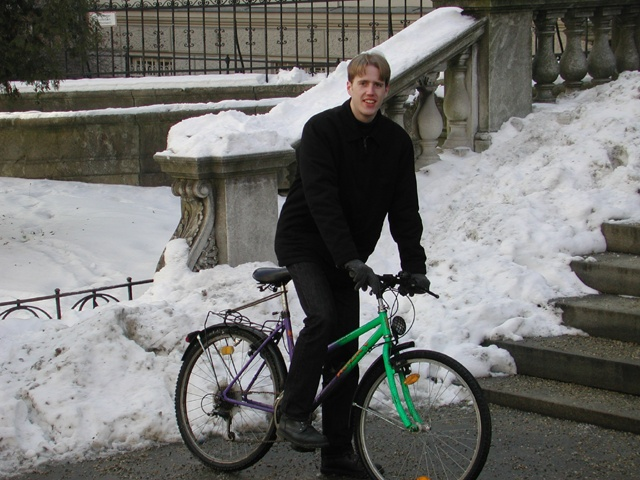person: (285, 51, 429, 475)
